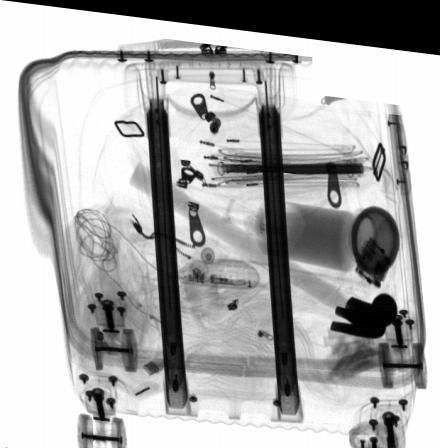Hammer: (129, 156, 398, 331)
